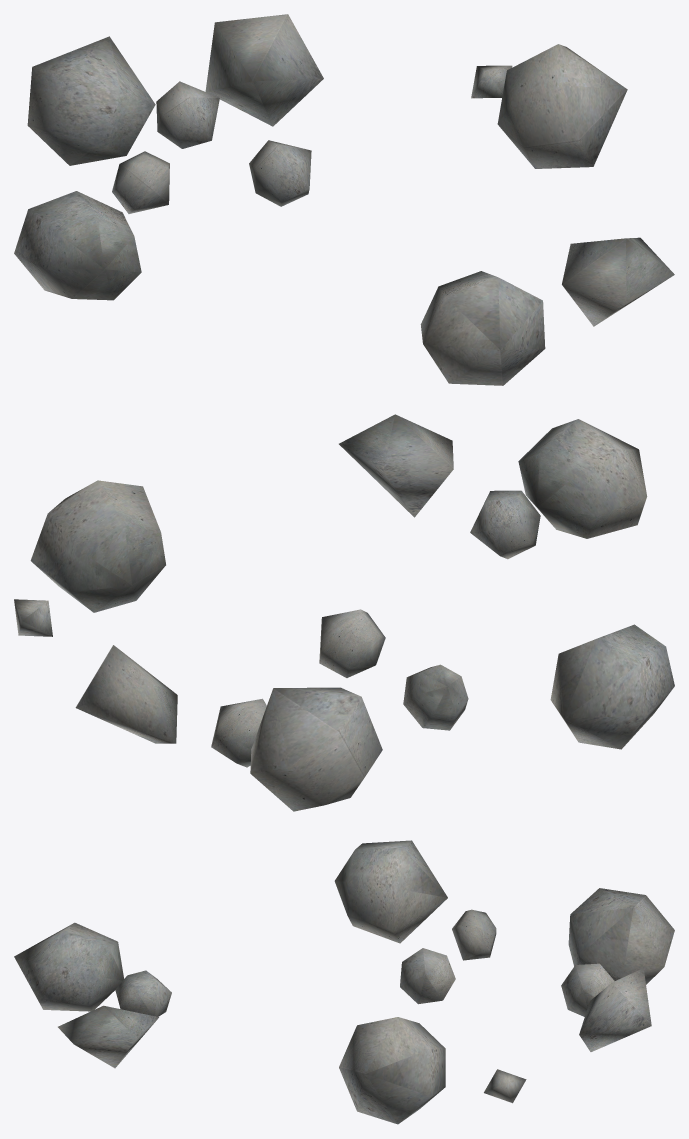
Rendered from stone_effect19.obj.
The picture shows the model from 3 angles, top to bottom: view 1: azimuth 30°, elevation 25°; view 2: azimuth 150°, elevation 25°; view 3: azimuth 270°, elevation 25°; orthographic projection. The views are drawn at different scales.
Parts seen in each view (by area): view 1: Sphere011; view 2: Sphere011; view 3: Sphere011.
Part boxes in pixels (x1,y1,x2,y2): Sphere011: (14, 14, 674, 385); Sphere011: (14, 414, 674, 811); Sphere011: (14, 840, 674, 1124).
Size of the model in its own units: 253 by 56.68 by 296.
1 material, 1 textured.
